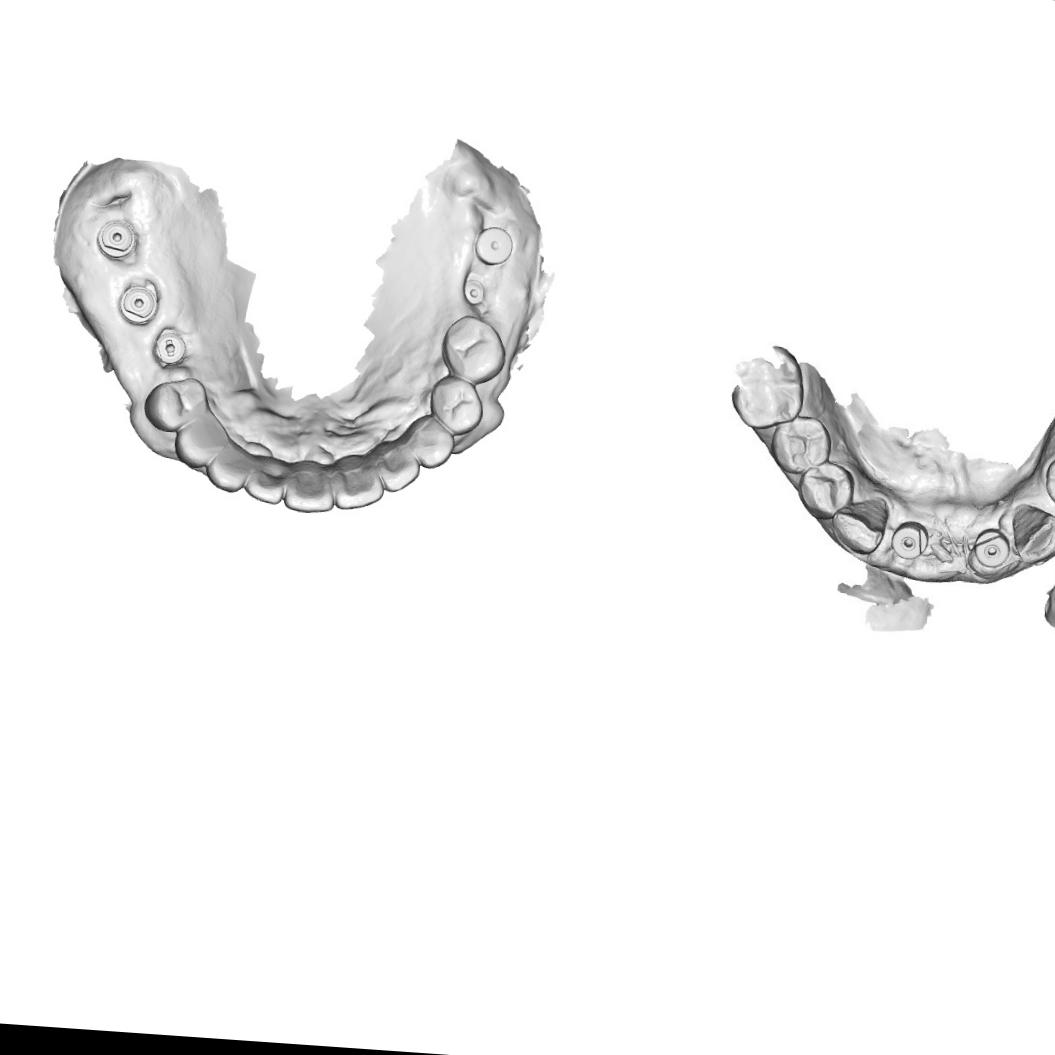canine: (829, 496, 892, 556), (400, 408, 458, 472), (1008, 505, 1055, 565), (170, 418, 222, 470)
implant: (90, 216, 138, 266), (470, 222, 515, 270), (115, 281, 160, 328), (970, 524, 1011, 572), (886, 516, 929, 560), (458, 278, 490, 306)
implant_minus: (149, 327, 190, 370)
incisor: (280, 465, 338, 518), (332, 459, 386, 514), (373, 440, 423, 494), (201, 442, 249, 494), (239, 460, 292, 506)
molar: (725, 346, 804, 432)
premolar: (436, 310, 511, 390), (138, 373, 209, 436), (425, 371, 488, 438), (767, 414, 832, 476), (798, 461, 851, 516)
